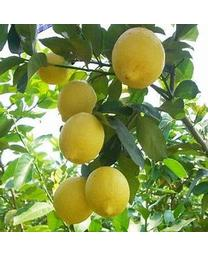lemon: (110, 26, 165, 89), (59, 112, 104, 163), (86, 168, 129, 216), (54, 176, 89, 223), (58, 81, 96, 124)
